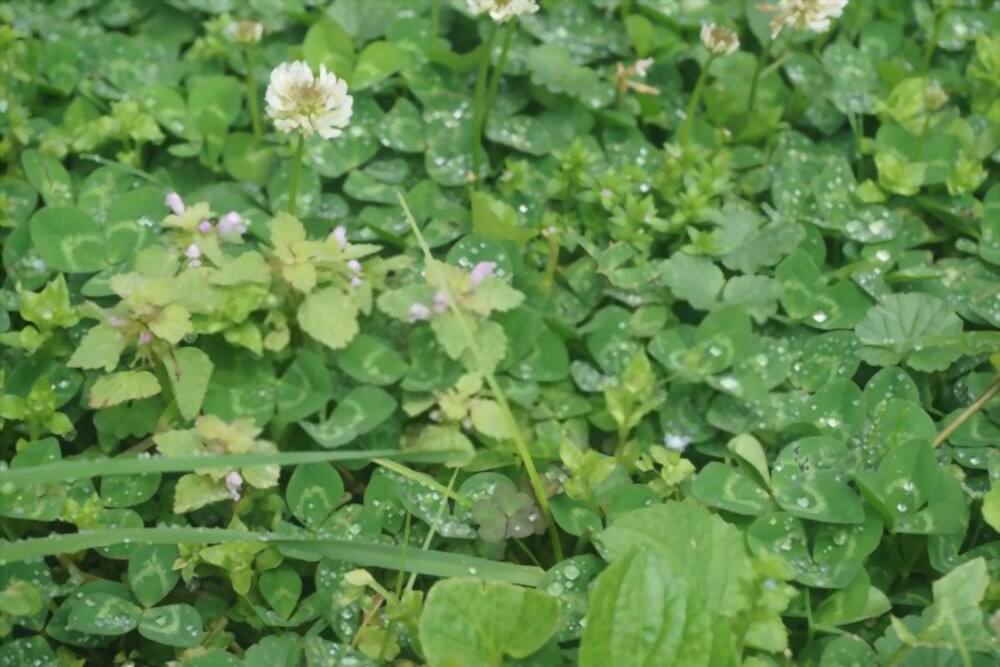clover: (14, 21, 965, 596)
